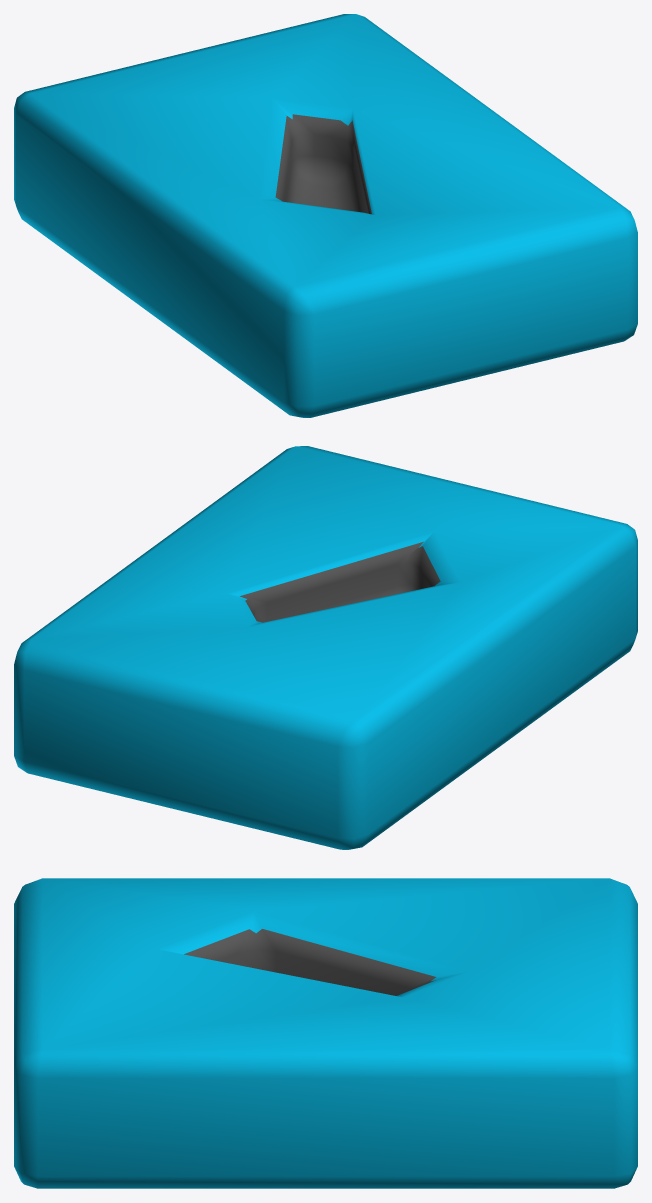
Rendered from split.glb.
3 views of the same model, one above another, from view 1: azimuth 30°, elevation 25°; view 2: azimuth 150°, elevation 25°; view 3: azimuth 270°, elevation 25° (orthographic). The views are drawn at different scales.
Visible parts, largest first — view 1: Cube; view 2: Cube; view 3: Cube.
Boxes of the visible parts, left/top/right/bottom form: Cube: left=14, top=14, right=637, bottom=417; Cube: left=14, top=446, right=637, bottom=849; Cube: left=14, top=878, right=637, bottom=1188.
Bounding box in the file's own units: 0.35 × 0.125 × 0.5.
